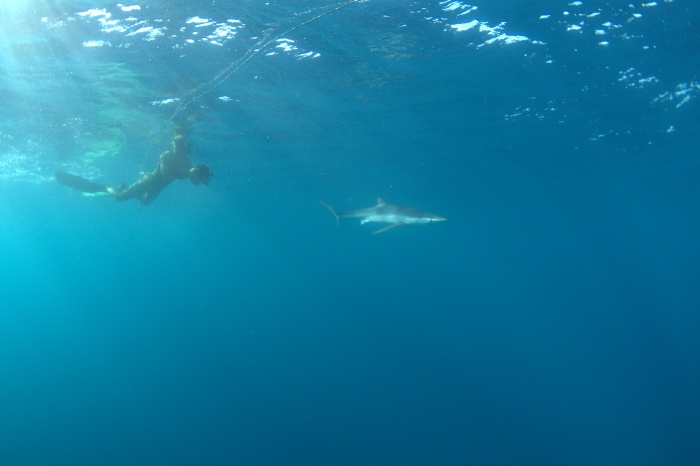Azul: (301, 177, 456, 253)
